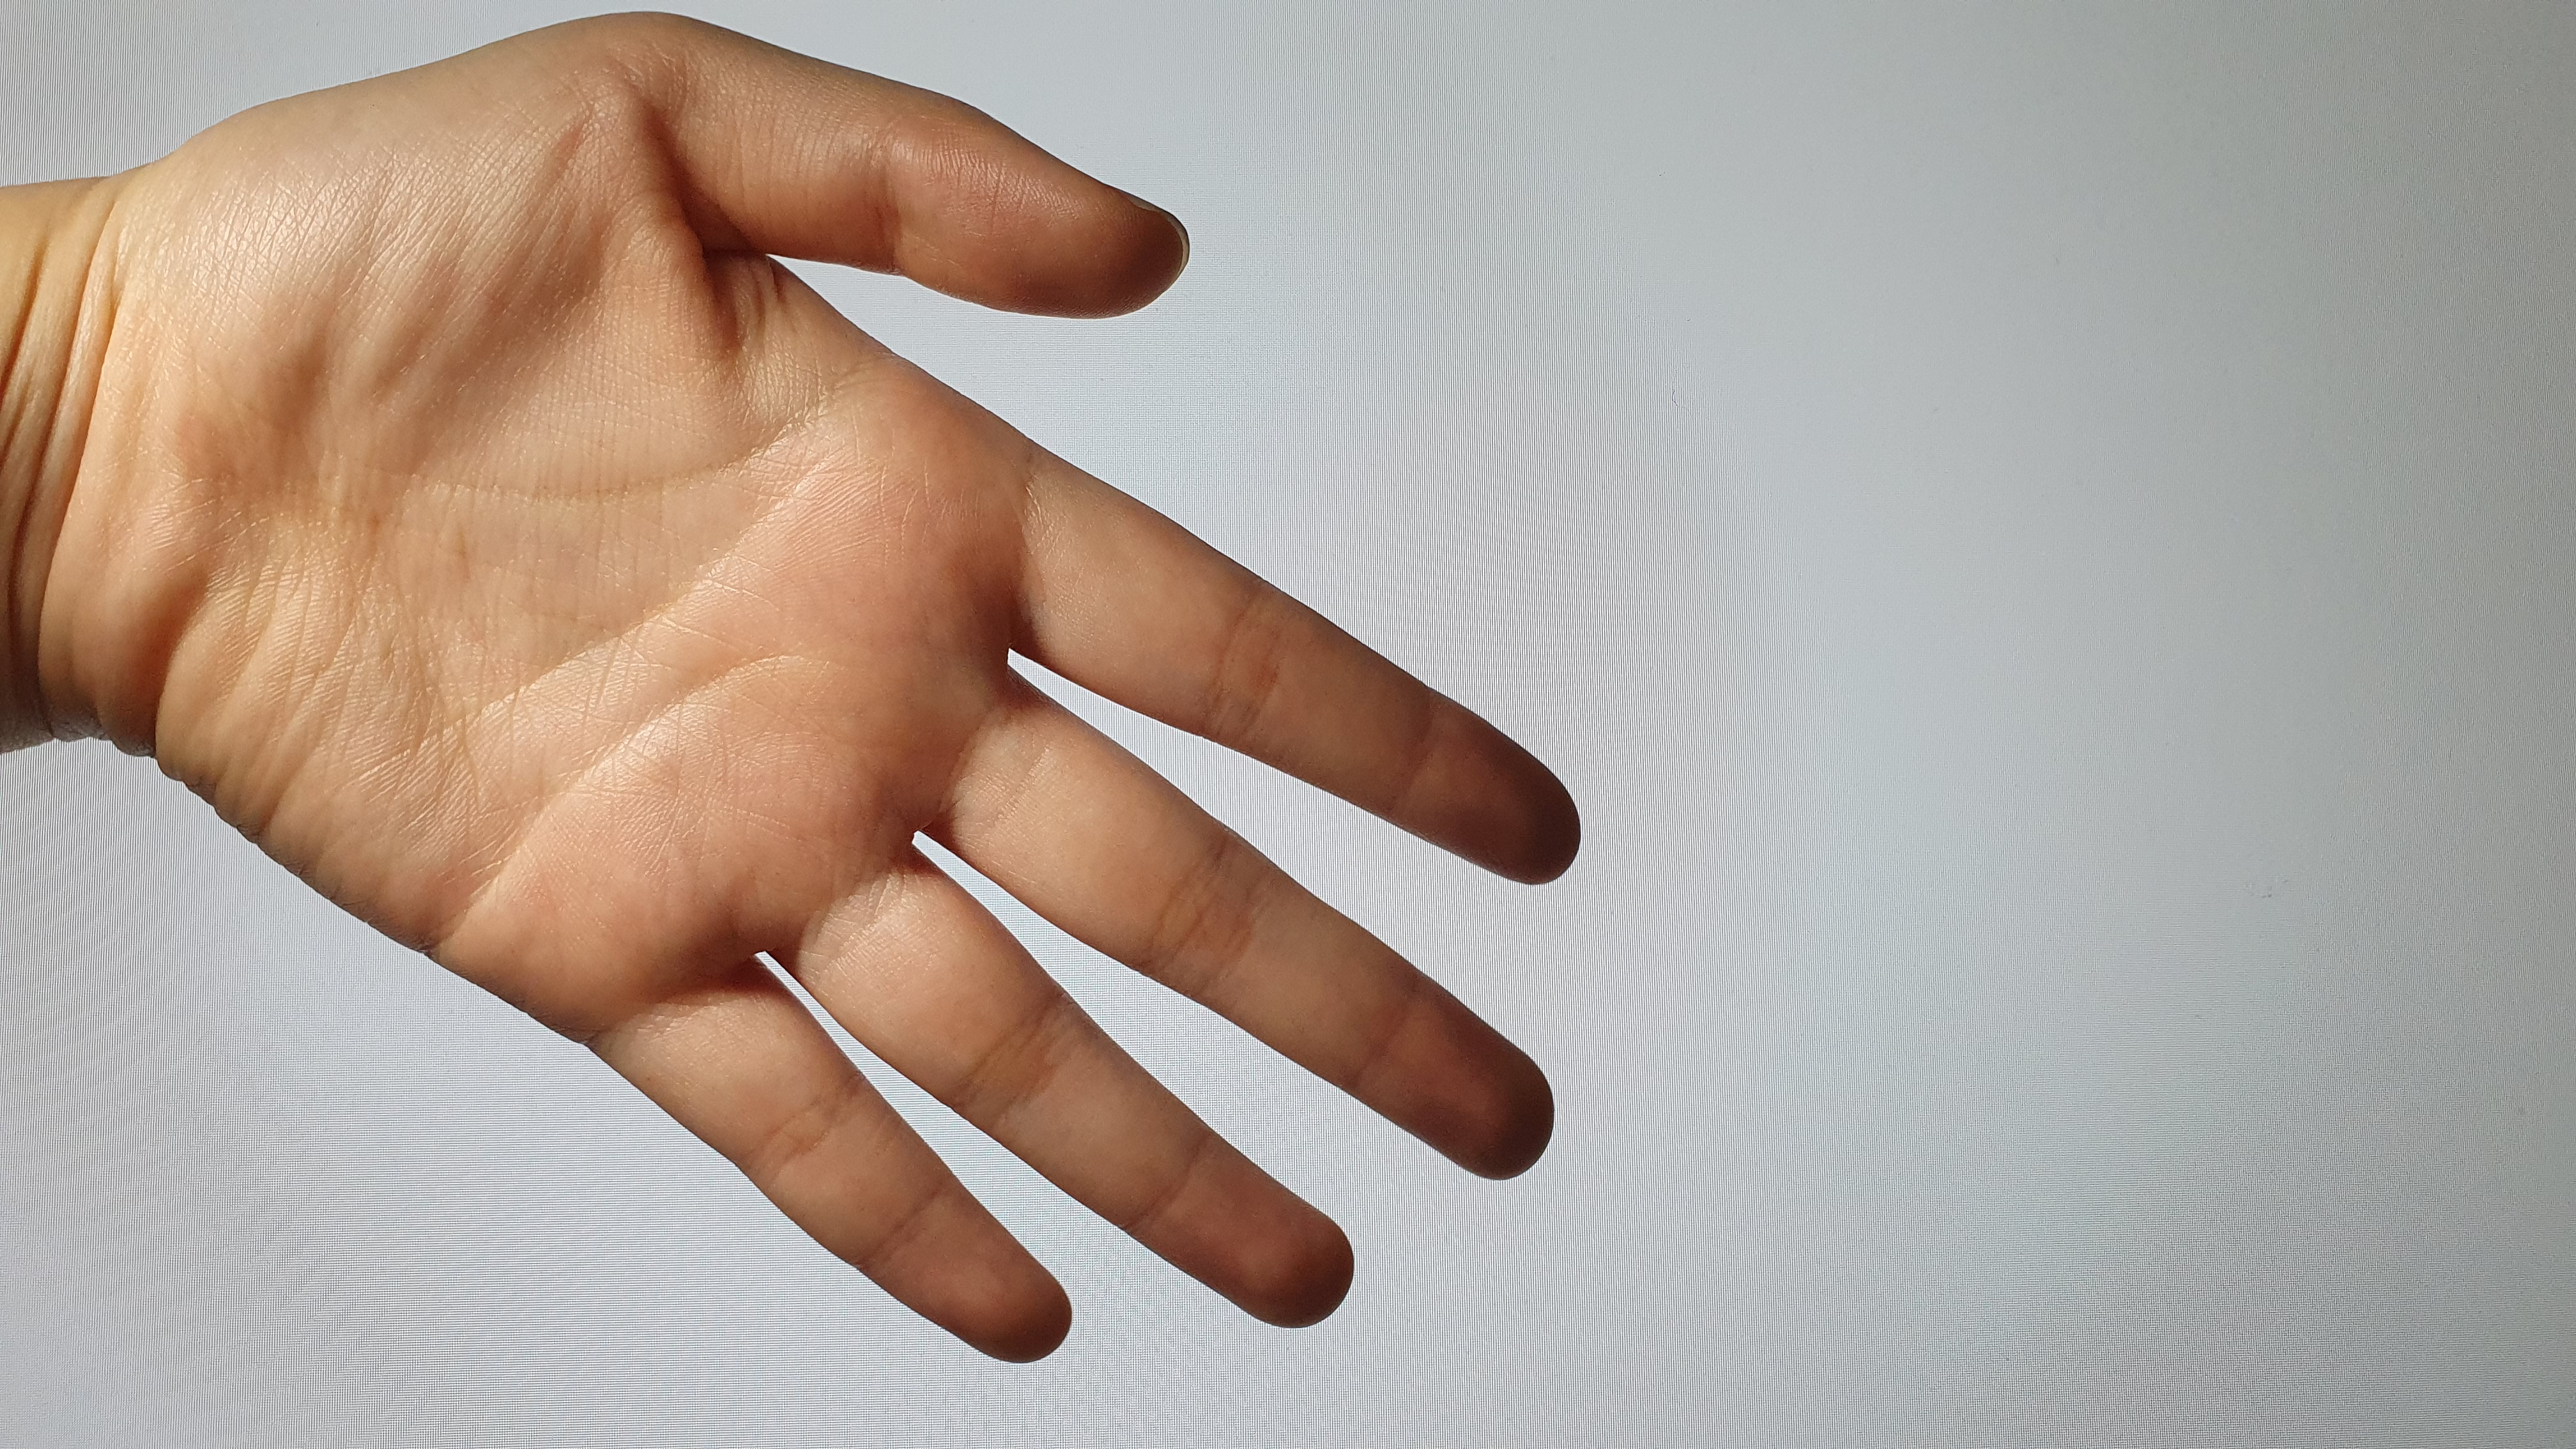hand: (133, 16, 1615, 1371)
index finger: (1012, 442, 1587, 897)
middle finger: (925, 704, 1548, 1182)
palm: (161, 37, 1024, 1016)
pinky: (605, 964, 1062, 1387)
ring finger: (787, 860, 1348, 1346)
thumb: (653, 19, 1207, 324)
